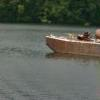Boat: (42, 27, 100, 61)
